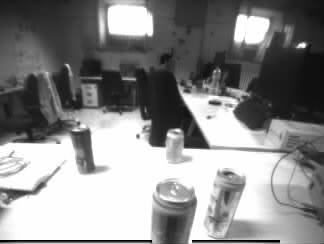Bottle: (211, 66, 220, 94)
Tin can: (151, 178, 196, 244), (204, 167, 245, 236), (71, 125, 95, 174), (165, 128, 182, 162)
